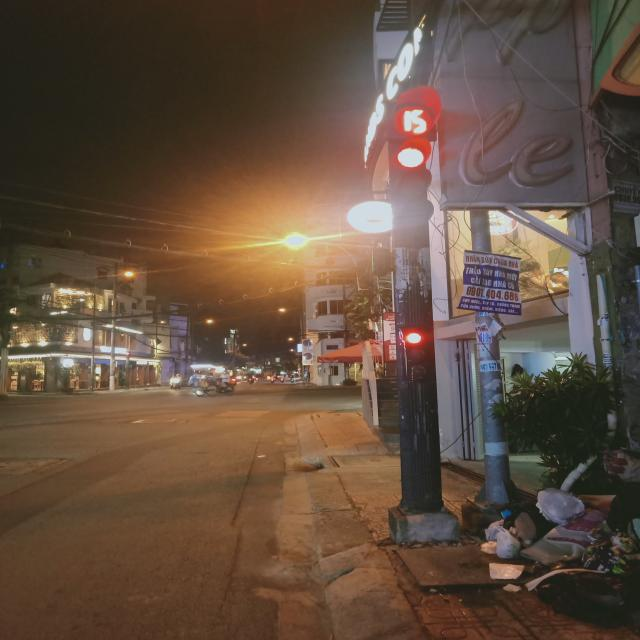Red: (384, 137, 441, 235), (395, 323, 433, 379)
